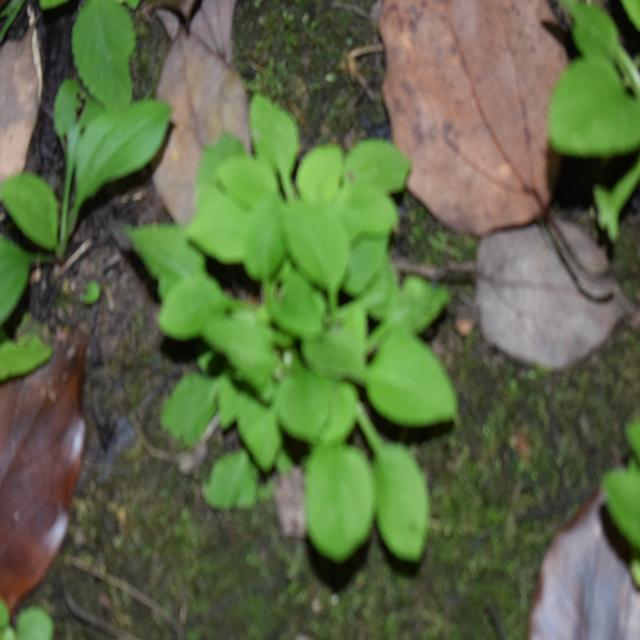Viola: (174, 148, 462, 552)
